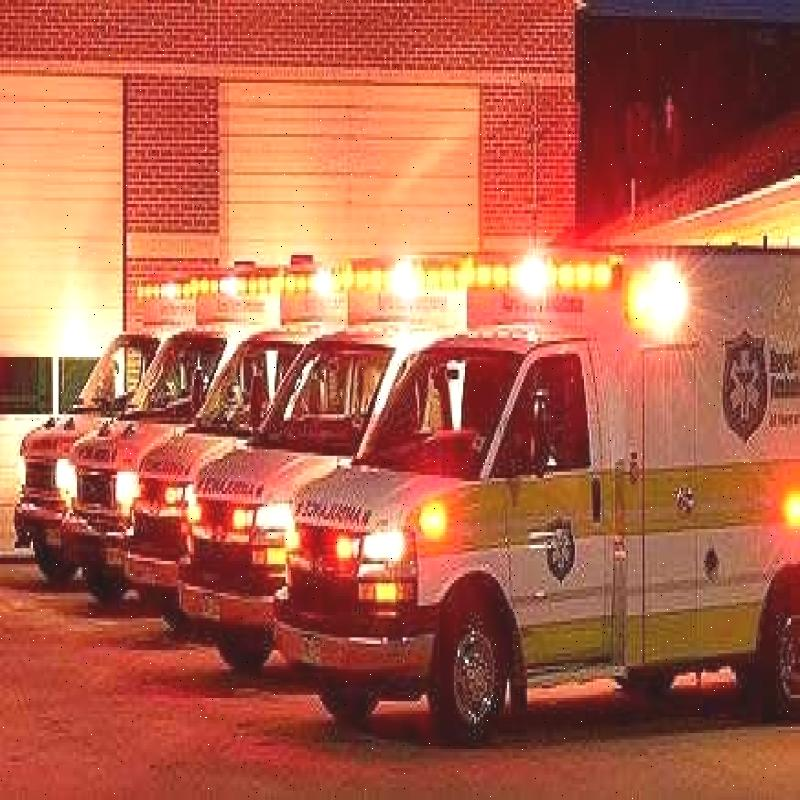AmbulanceSiren: (459, 253, 616, 307), (346, 259, 462, 308), (273, 260, 342, 302)
